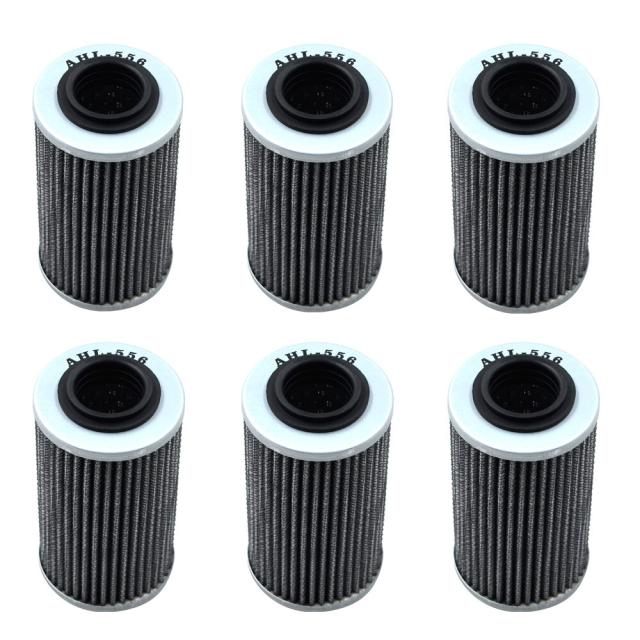oil_filter: (28, 335, 191, 620), (25, 40, 191, 318), (443, 335, 599, 616), (237, 335, 390, 620), (240, 46, 387, 312), (457, 38, 592, 306)
